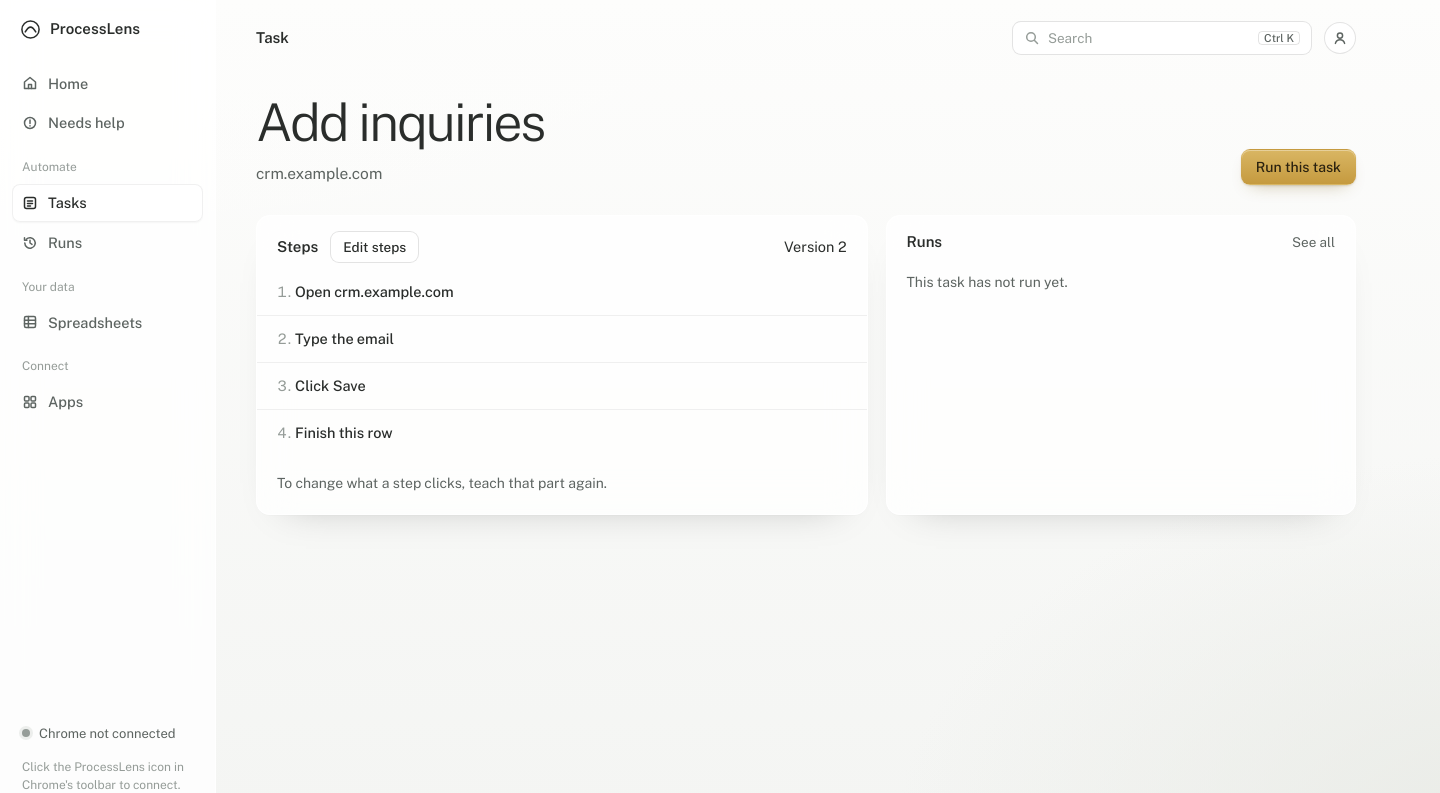
Test case: the workflow editor › renames, changes where a value comes from, changes the save check, and saves
Click the button "Edit steps" at (375, 247), box [330,231,419,263]
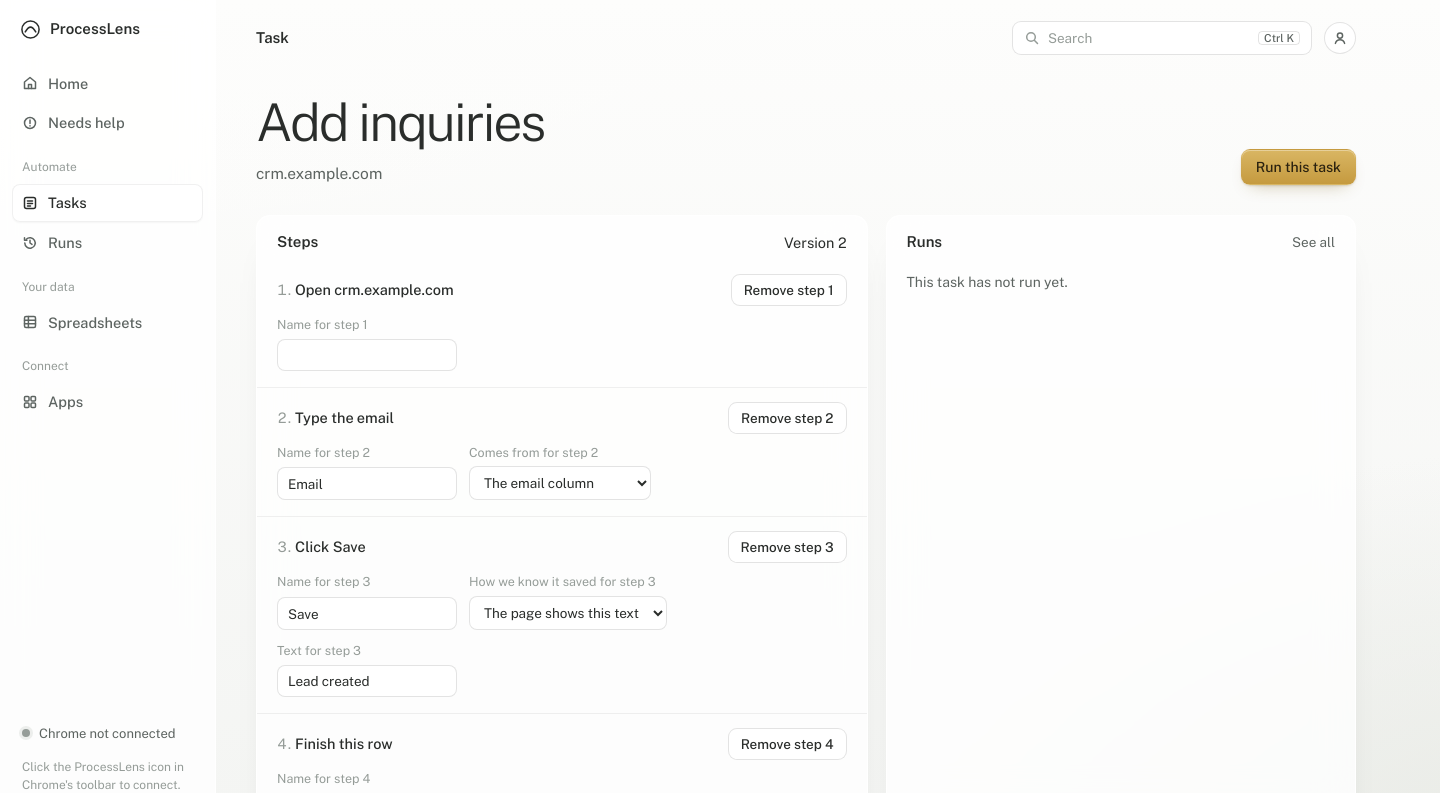
Replace the text in the field labelled "Name for step 2" with "Work email" at (367, 484), box [277,467,457,500]
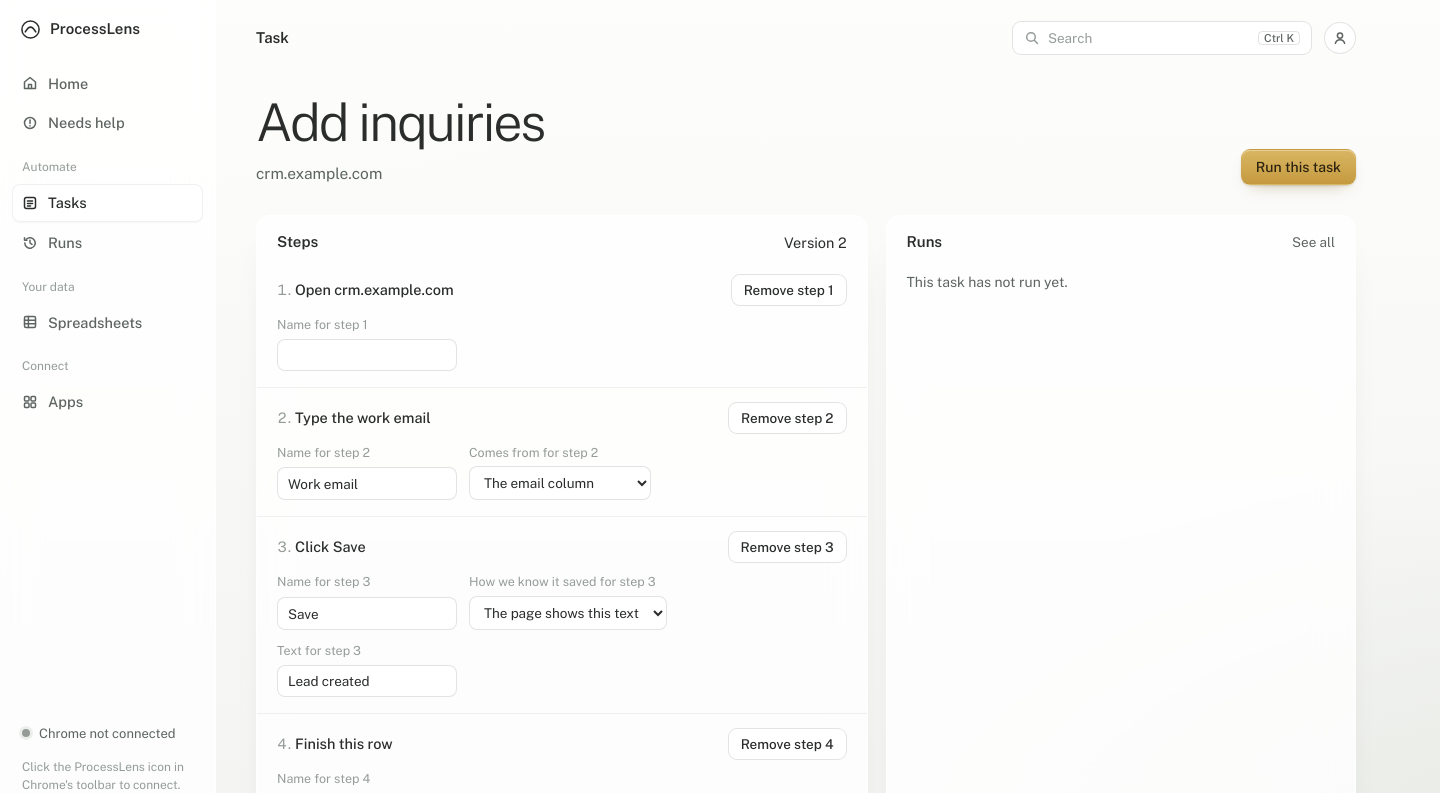
Select "The full_name column" in the dropdown labelled "Comes from for step 2" at (560, 483), box [469,466,651,500]
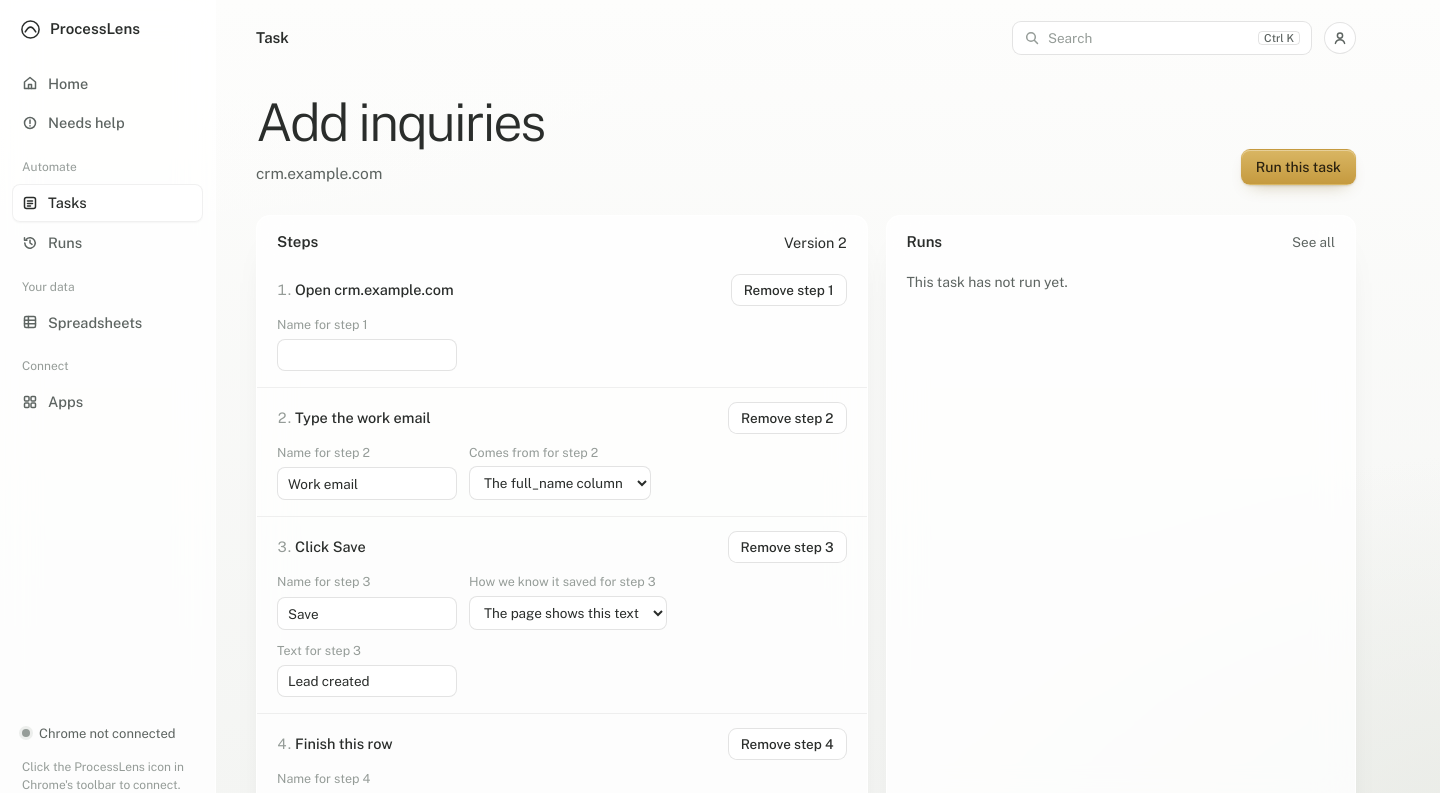
Select "The address becomes" in the dropdown labelled "How we know it saved for step 3" at (568, 613), box [469,596,667,630]
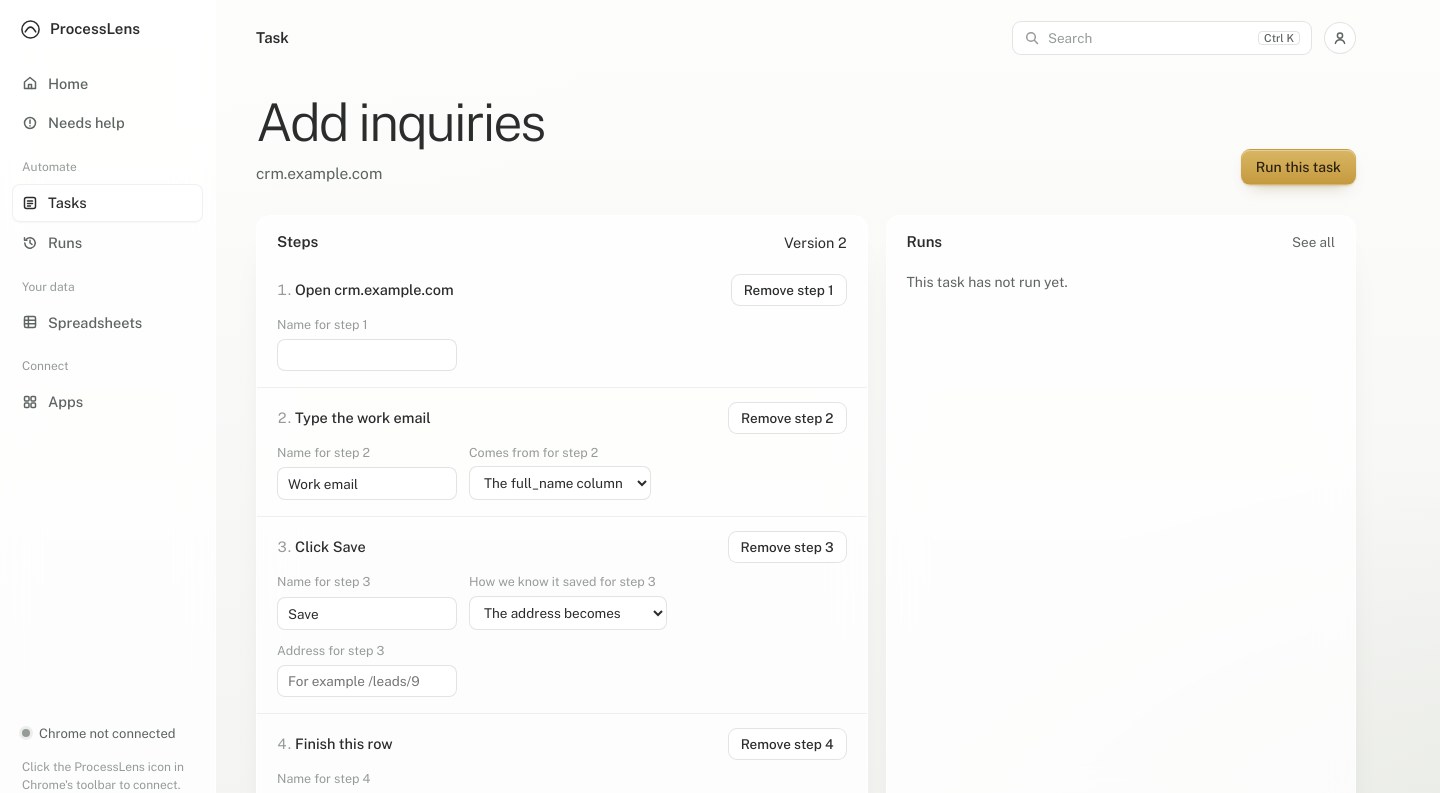
Type "/leads/9" into the field labelled "Address for step 3" at (367, 681), box [277,665,457,697]
(page scrolled)
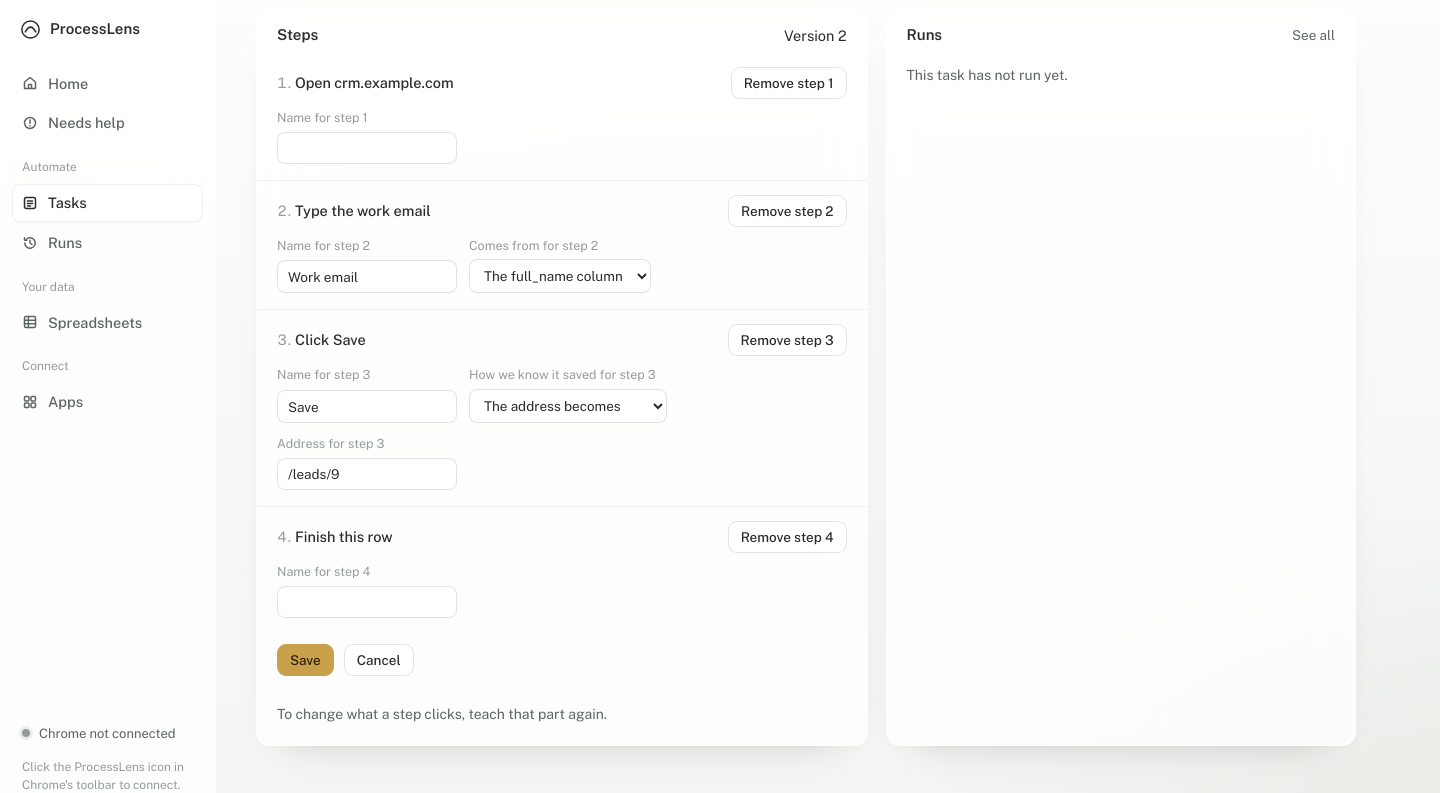
Click the button "Save" at (305, 660), box [277,644,334,676]
(page scrolled)
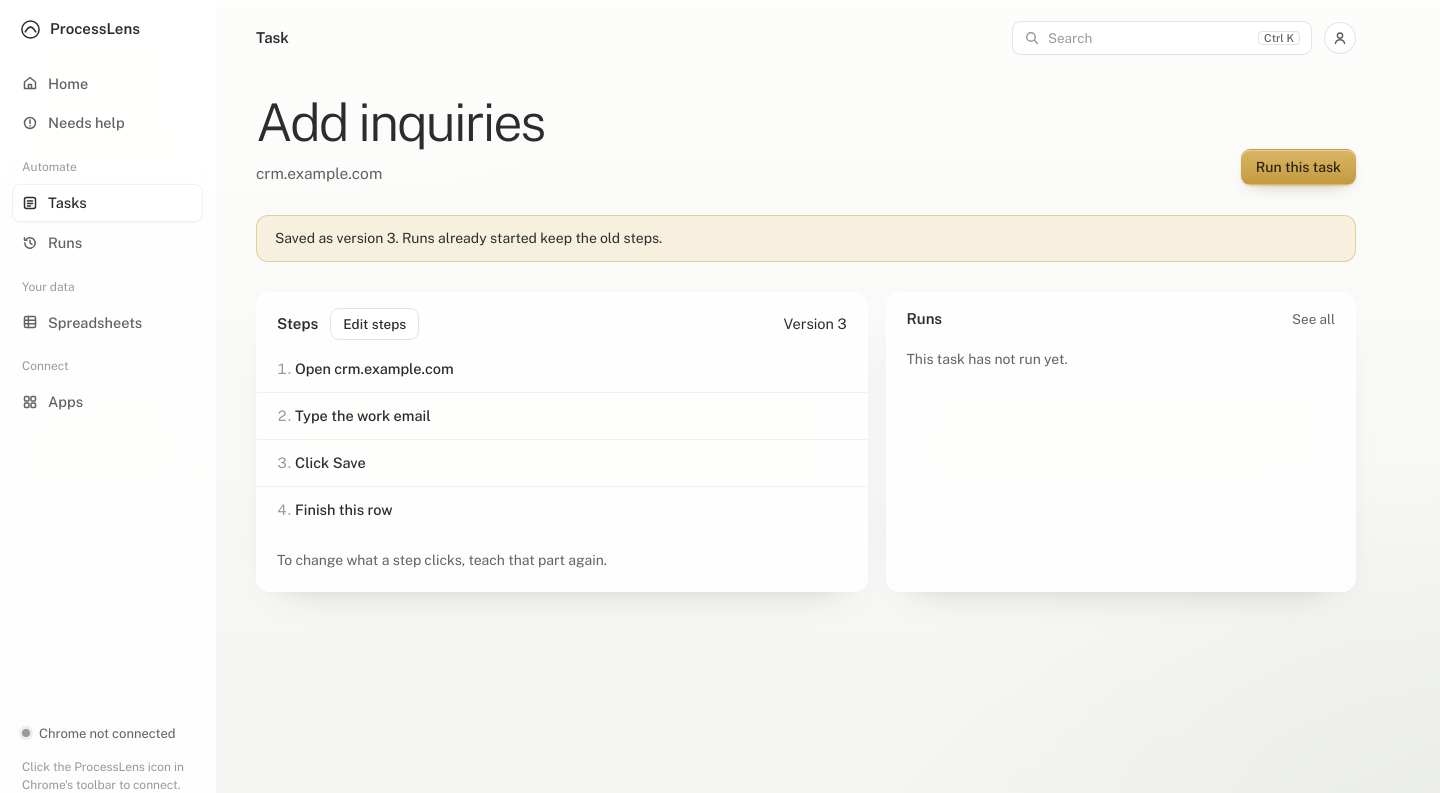
expect the text "Type the work email" is shown: met, box [277,407,431,424]
expect the message shows "Saved as version 3": met, box [256,215,1356,262]
expect the message shows "Runs already started keep the old steps.": met, box [396,230,662,246]
